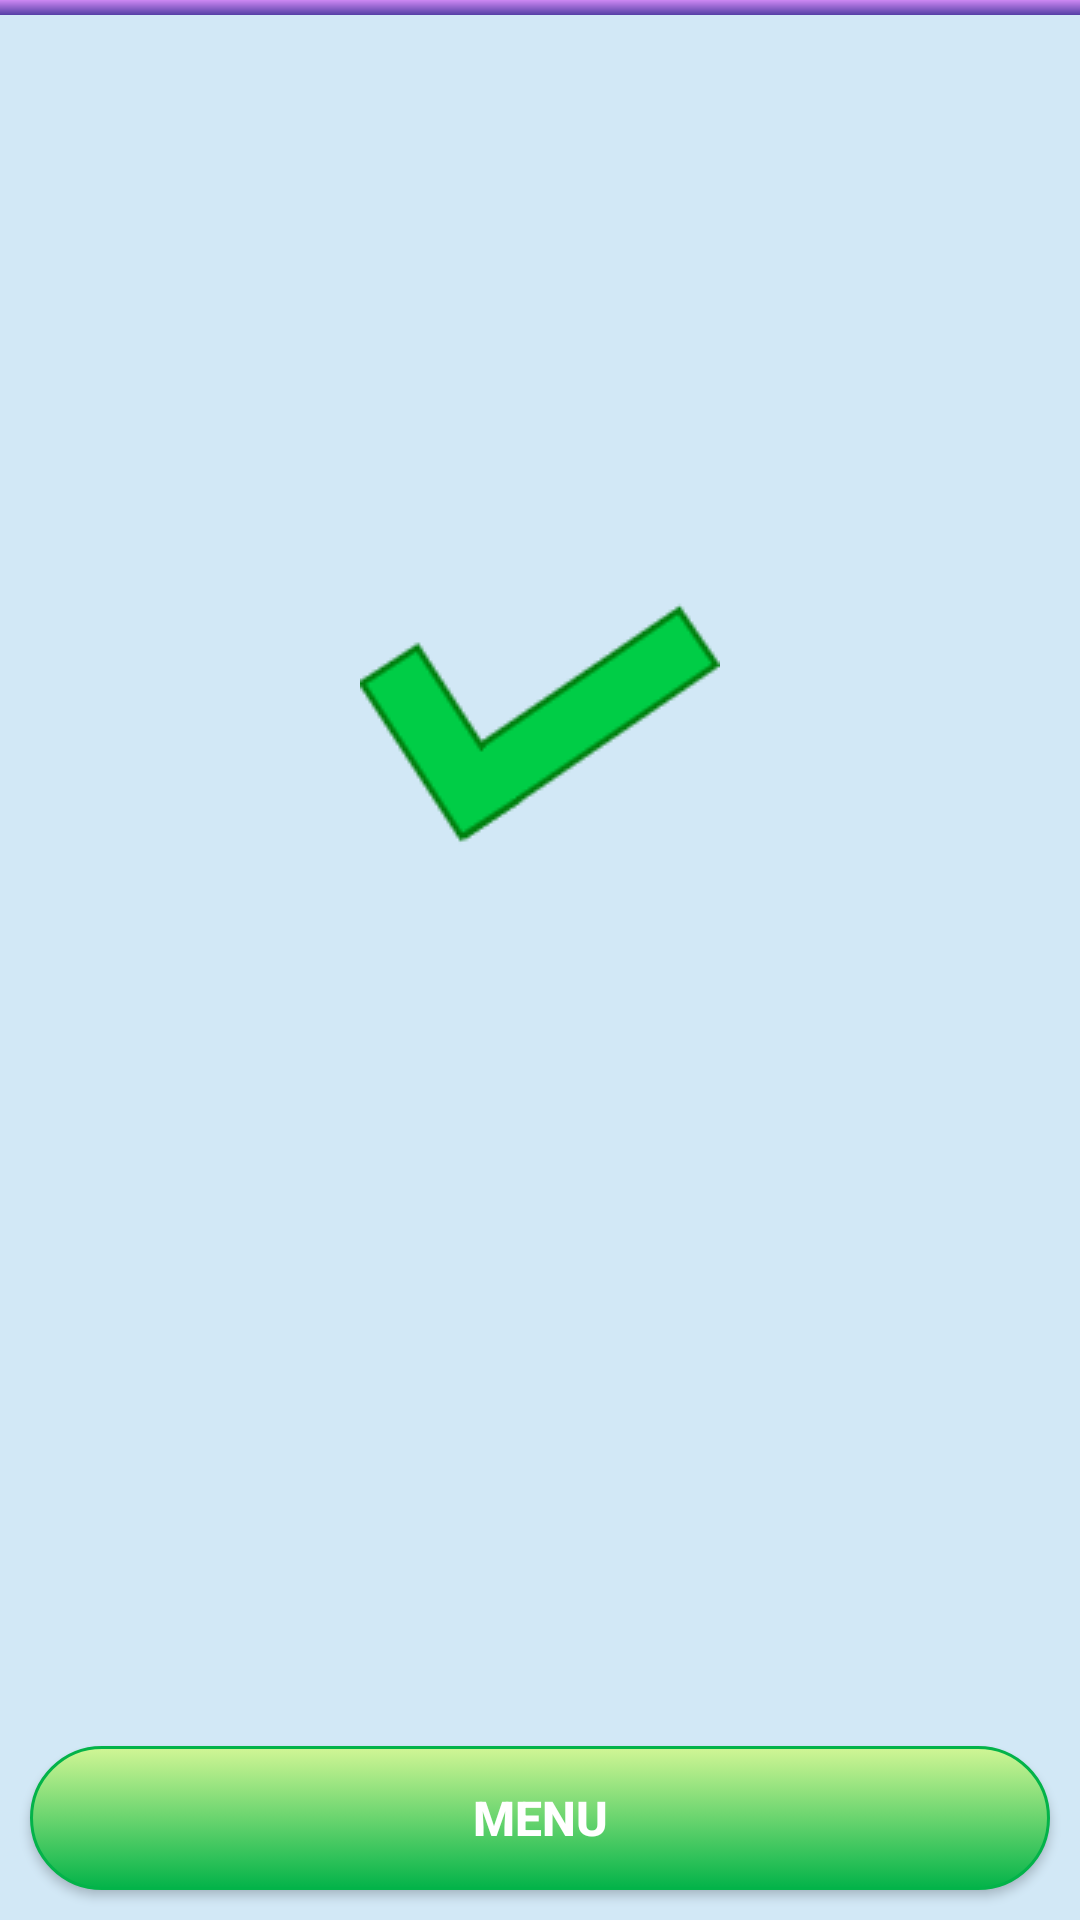

Named icons in this screenshot (1080px x 1920px) and their bounding boxes, box=[x1, y1, x2, y2]:
checked: box=[360, 605, 720, 842]
